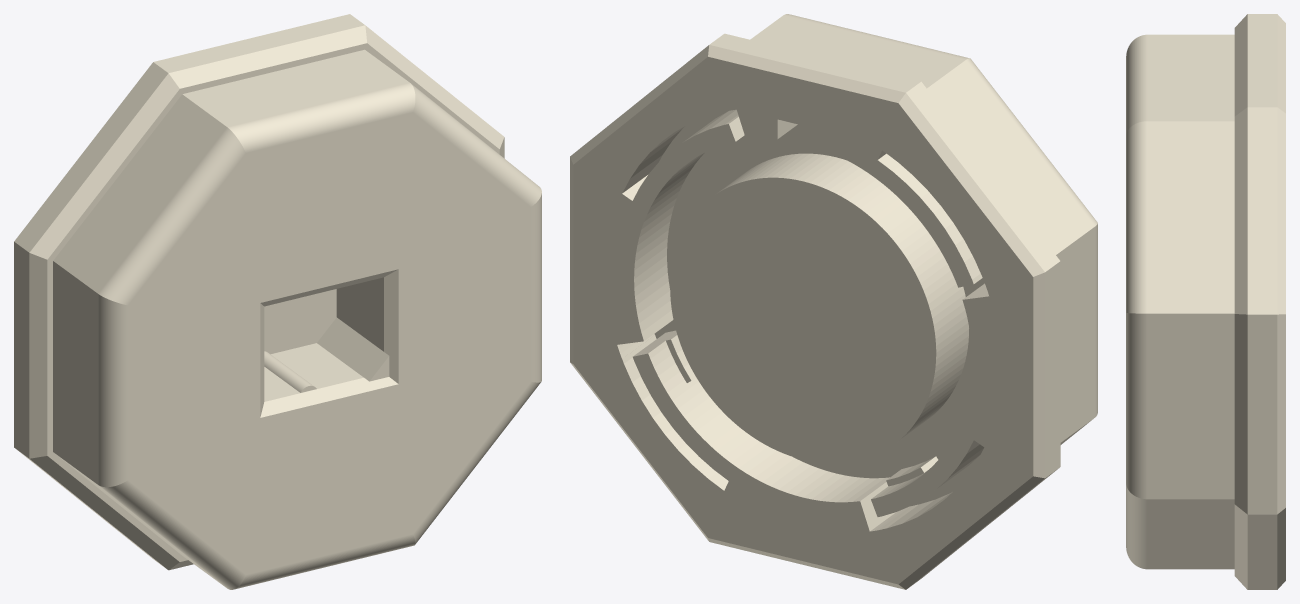
Rendered from base@ivory.glb.
3 views of the same model, side by side, from view 1: azimuth 30°, elevation 25°; view 2: azimuth 150°, elevation 25°; view 3: azimuth 270°, elevation 25° (orthographic). The views are drawn at different scales.
Visible parts, largest first — view 1: geometry_0; view 2: geometry_0; view 3: geometry_0.
Part boxes in pixels (x1=…): geometry_0: x1=14, y1=14, x2=541, y2=589; geometry_0: x1=570, y1=14, x2=1097, y2=589; geometry_0: x1=1126, y1=14, x2=1285, y2=589.
Size of the model in its own units: 25 by 25 by 7.5.
